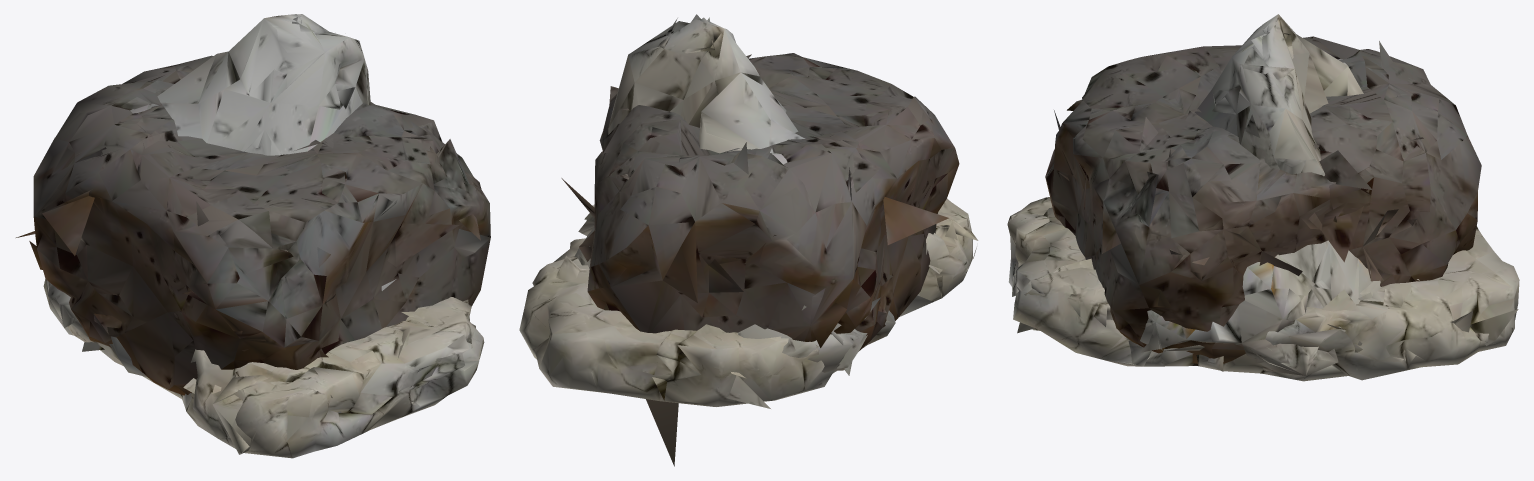
Rendered from rocks-italy.glb.
3 renders of one model, left to right at view 1: azimuth 30°, elevation 25°; view 2: azimuth 150°, elevation 25°; view 3: azimuth 270°, elevation 25°, orthographic. The views are drawn at different scales.
Parts seen in each view (by area): view 1: rock-italy-tuff_mesh, rock-italy-slab_mesh, rock-italy-outcrop_mesh, rock-italy-tuff_far_mesh, rock-italy-slab_far_mesh, rock-italy-outcrop_far_mesh; view 2: rock-italy-tuff_mesh, rock-italy-slab_mesh, rock-italy-outcrop_mesh, rock-italy-tuff_far_mesh, rock-italy-slab_far_mesh, rock-italy-outcrop_far_mesh; view 3: rock-italy-tuff_mesh, rock-italy-slab_mesh, rock-italy-outcrop_mesh, rock-italy-tuff_far_mesh, rock-italy-slab_far_mesh, rock-italy-outcrop_far_mesh.
Part boxes in pixels (x1=…): rock-italy-tuff_mesh: x1=33, y1=55, x2=490, y2=395; rock-italy-slab_mesh: x1=43, y1=279, x2=484, y2=458; rock-italy-outcrop_mesh: x1=46, y1=14, x2=370, y2=376; rock-italy-tuff_far_mesh: x1=16, y1=80, x2=480, y2=357; rock-italy-slab_far_mesh: x1=82, y1=299, x2=472, y2=454; rock-italy-outcrop_far_mesh: x1=48, y1=16, x2=396, y2=328; rock-italy-tuff_mesh: x1=587, y1=53, x2=959, y2=350; rock-italy-slab_mesh: x1=519, y1=198, x2=972, y2=406; rock-italy-outcrop_mesh: x1=574, y1=17, x2=895, y2=372; rock-italy-tuff_far_mesh: x1=561, y1=54, x2=948, y2=347; rock-italy-slab_far_mesh: x1=532, y1=210, x2=978, y2=408; rock-italy-outcrop_far_mesh: x1=577, y1=14, x2=880, y2=466; rock-italy-tuff_mesh: x1=1045, y1=36, x2=1481, y2=363; rock-italy-slab_mesh: x1=1007, y1=197, x2=1519, y2=381; rock-italy-outcrop_mesh: x1=1145, y1=14, x2=1379, y2=375; rock-italy-tuff_far_mesh: x1=1054, y1=41, x2=1423, y2=319; rock-italy-slab_far_mesh: x1=1011, y1=210, x2=1518, y2=371; rock-italy-outcrop_far_mesh: x1=1137, y1=28, x2=1380, y2=374.
Bounding box in the file's own units: 1.87 × 2.14 × 2.25.
Materials: 4 (4 with a texture image).
